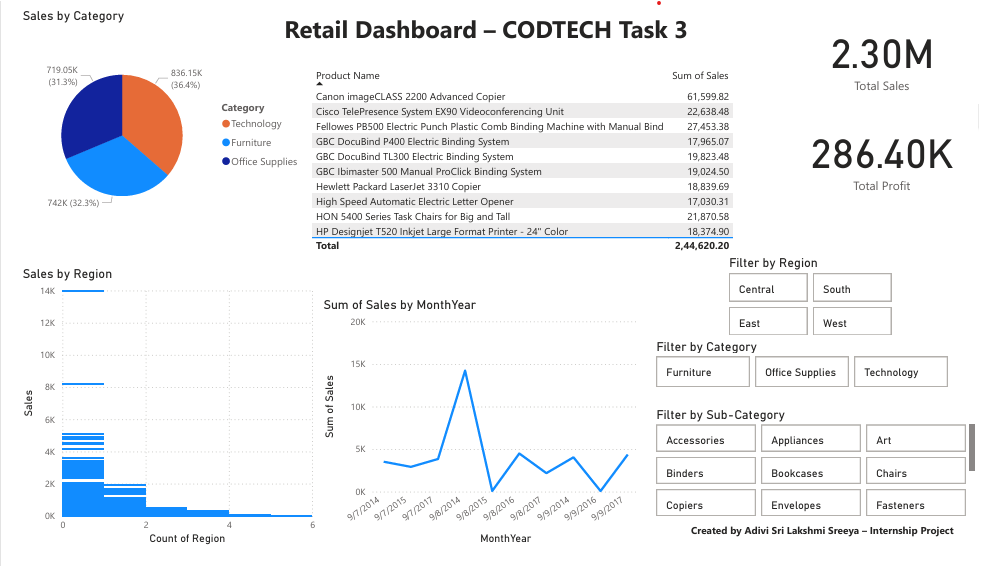

Layout of this report page (visuals, bound fields, positions):
{"tool":"powerbi","page":{"name":"Page 1","canvas":[1280,720],"ordinal":0},"visuals":[{"type":"card","fields":{"Values":["Sum(Sample - Superstore.Sales)"]},"box":[1021.3,0,258.7,129.3],"z":0},{"type":"card","fields":{"Values":["Sum(Sample - Superstore.Profit)"]},"box":[1038.1,134.4,225.1,127.7],"z":1000},{"type":"clusteredBarChart","title":"Sales by Region","fields":{"Y":["CountNonNull(Sample - Superstore.Region)"],"Category":["Sample - Superstore.Sales"]},"box":[0,343.9,399.5,376.1],"z":2000},{"type":"pieChart","title":"Sales by Category","fields":{"Category":["Sample - Superstore.Category"],"Y":["Sum(Sample - Superstore.Sales)"]},"box":[0,0,384.7,320.8],"z":3000},{"type":"lineChart","fields":{"Category":["Sample - Superstore.MonthYear"],"Y":["Sum(Sample - Superstore.Sales)"]},"box":[400.7,385,430.1,334.7],"z":4000},{"type":"tableEx","title":"Top 10 Products by Sales","fields":{"Values":["Sample - Superstore.Product Name","Sum(Sample - Superstore.Sales)"]},"box":[385,55.5,575.8,287.9],"z":5000},{"type":"advancedSlicerVisual","fields":{"Values":["Sample - Superstore.Region"]},"box":[941.8,329.5,338.2,111],"z":6000},{"type":"advancedSlicerVisual","fields":{"Values":["Sample - Superstore.Category"]},"box":[844.7,440.5,400.7,69.4],"z":7000},{"type":"advancedSlicerVisual","fields":{"Values":["Sample - Superstore.Sub-Category"]},"box":[844.9,532.5,435.1,151.2],"z":8000},{"type":"textbox","box":[303.5,0,638.3,83.3],"z":9000},{"type":"textbox","box":[862,683.4,418,36.4],"z":10000}]}

Visuals, with their boxes in screenshot pixels (x1, y1, x2, y2), scaled from the page's 1280x720 canvas onto the 996x566 screenshot:
card - Sum(Sample - Superstore.Sales): bbox=[795, 0, 995, 102]
card - Sum(Sample - Superstore.Profit): bbox=[808, 106, 983, 206]
"Sales by Region" clusteredBarChart: bbox=[0, 270, 311, 565]
"Sales by Category" pieChart: bbox=[0, 0, 299, 252]
lineChart - Sample - Superstore.MonthYear x Sum(Sample - Superstore.Sales): bbox=[312, 303, 646, 565]
"Top 10 Products by Sales" tableEx: bbox=[300, 44, 748, 270]
advancedSlicerVisual - Sample - Superstore.Region: bbox=[733, 259, 995, 346]
advancedSlicerVisual - Sample - Superstore.Category: bbox=[657, 346, 969, 401]
advancedSlicerVisual - Sample - Superstore.Sub-Category: bbox=[657, 419, 995, 537]
textbox: bbox=[236, 0, 733, 65]
textbox: bbox=[671, 537, 995, 565]
